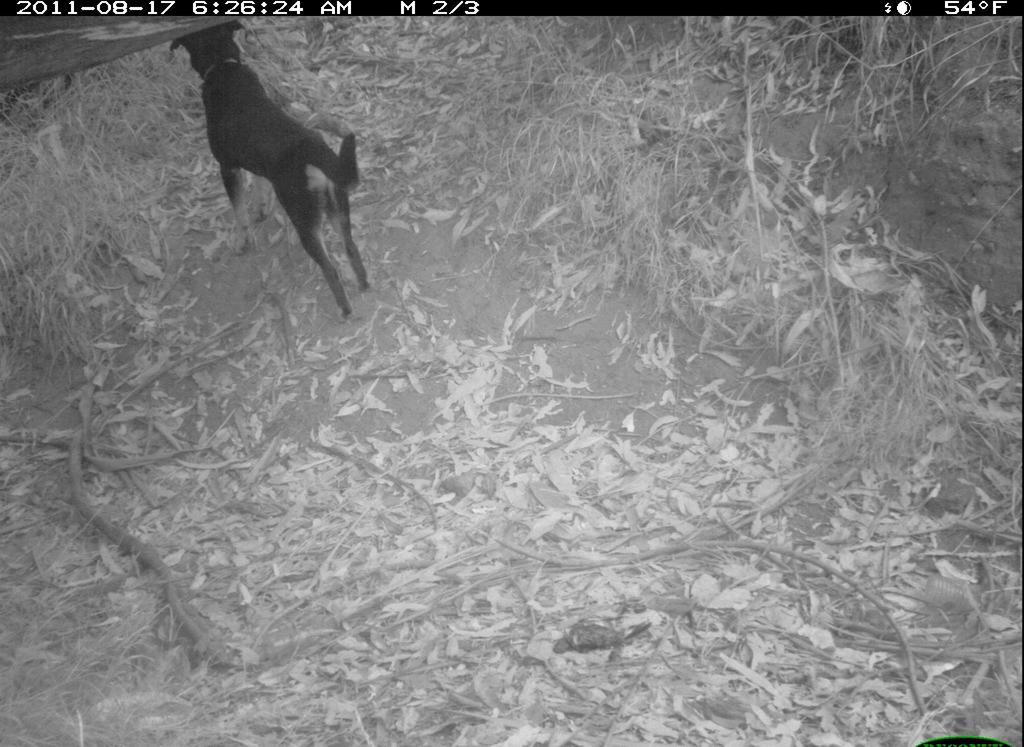dog: (148, 27, 377, 336)
